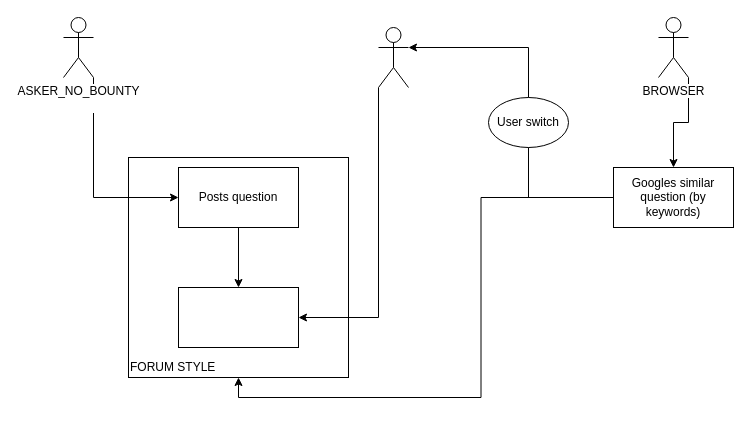
This 751x423 diagram has some shape labels left out. The centre of each missing label's shape, as x and y in pixels:
"Comments (answers question)" goes at (x=238, y=317).
"SOLVER_NO_BOUNTY" goes at (x=393, y=57).
